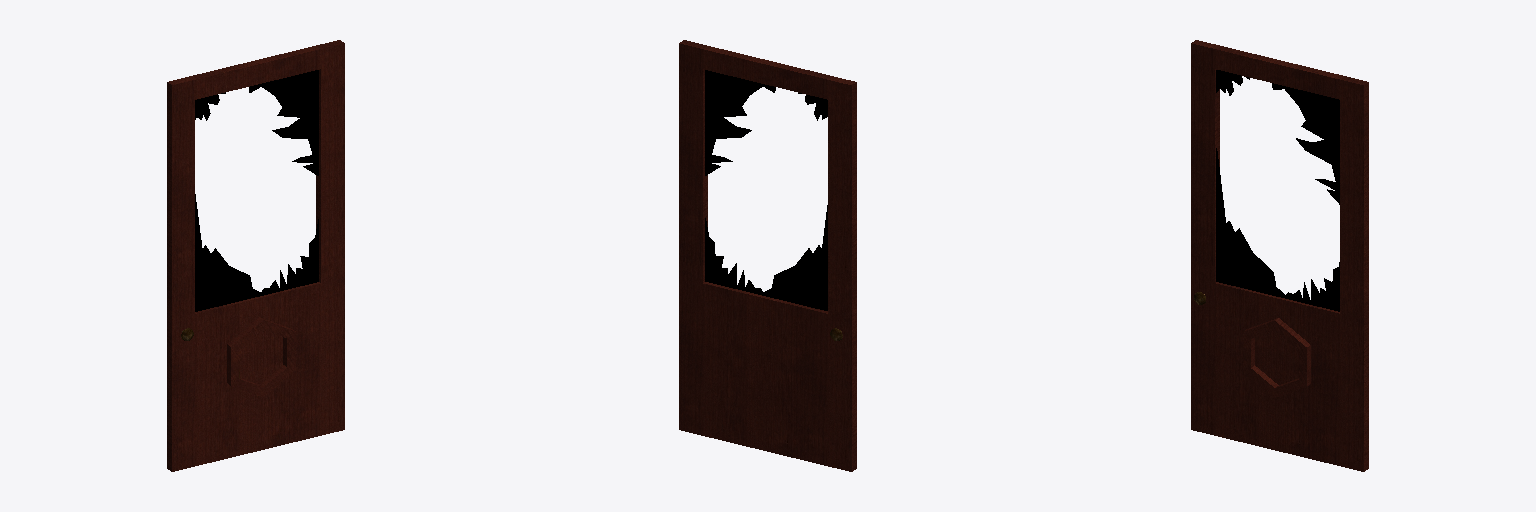
3 renders of one model, left to right at view 1: azimuth 30°, elevation 25°; view 2: azimuth 150°, elevation 25°; view 3: azimuth 330°, elevation 25°, orthographic.
Parts seen in each view (by area): view 1: R_Door, Door_Glass_01; view 2: R_Door, Door_Glass_01; view 3: R_Door, Door_Glass_01.
Part boxes in pixels (left/top/right/bottom): R_Door: left=167, top=40, right=344, bottom=471; Door_Glass_01: left=195, top=70, right=318, bottom=311; R_Door: left=679, top=40, right=856, bottom=471; Door_Glass_01: left=705, top=70, right=827, bottom=310; R_Door: left=1191, top=40, right=1368, bottom=471; Door_Glass_01: left=1216, top=70, right=1339, bottom=311.
Size of the model in its own units: 102 by 218 by 15.81.
2 materials, 1 textured.